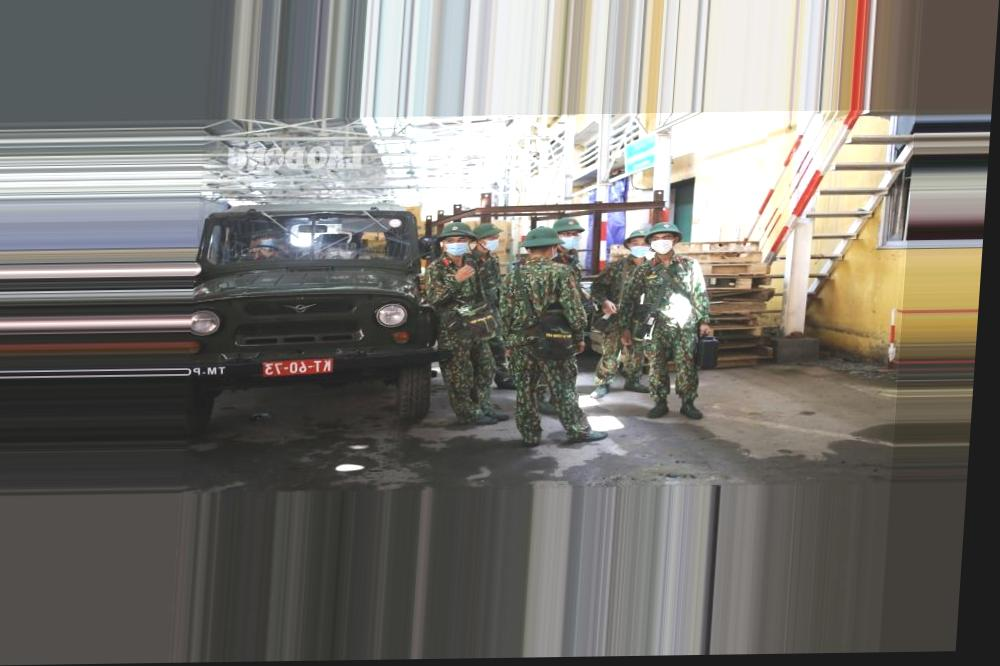License_Plate: (258, 355, 339, 382)
